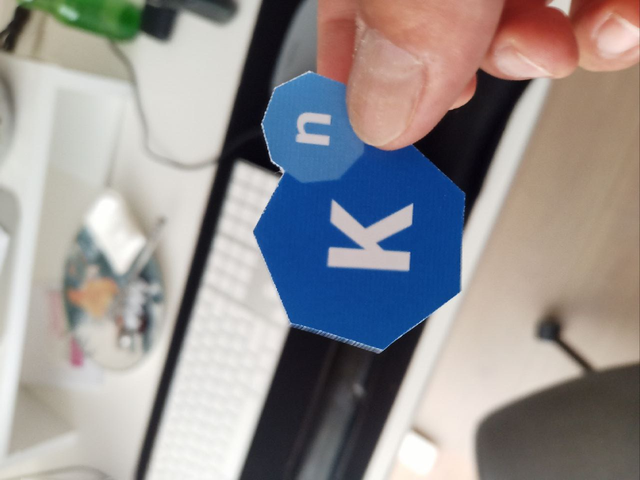knative: (253, 69, 463, 355)
